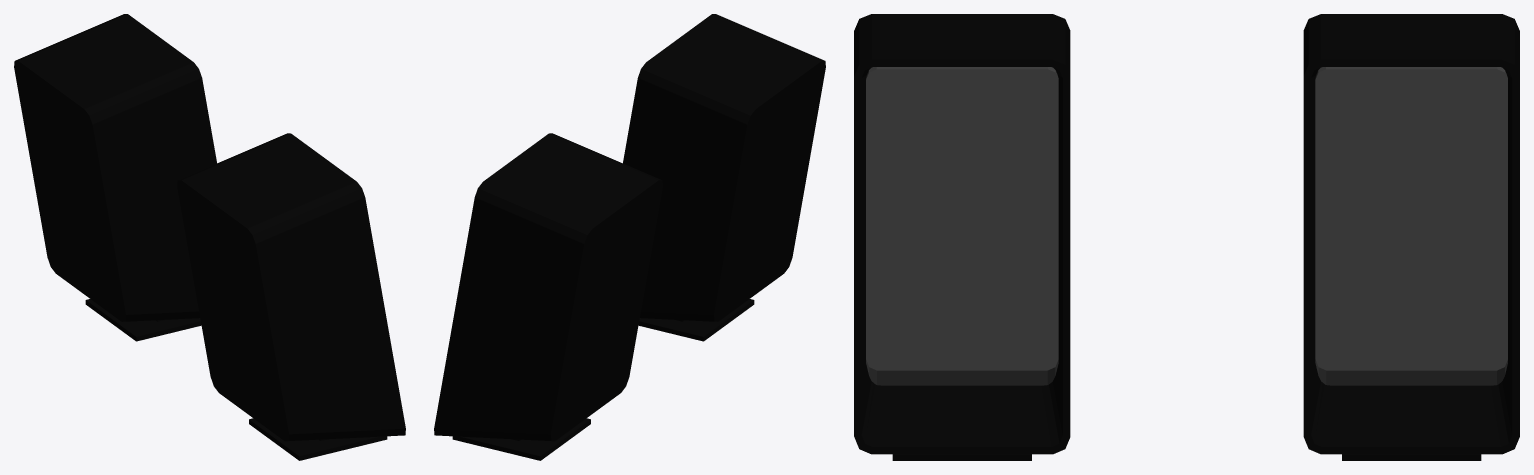
The model's file is Wall speakers.glb.
3 renders of one model, left to right at view 1: azimuth 30°, elevation 25°; view 2: azimuth 150°, elevation 25°; view 3: azimuth 270°, elevation 25°, orthographic. The views are drawn at different scales.
Parts seen in each view (by area): view 1: Wall___Desk_Speaker; view 2: Wall___Desk_Speaker; view 3: Wall___Desk_Speaker.
Part boxes in pixels (left/top/right/bottom): Wall___Desk_Speaker: left=14, top=14, right=405, bottom=460; Wall___Desk_Speaker: left=434, top=14, right=825, bottom=460; Wall___Desk_Speaker: left=854, top=14, right=1519, bottom=460.
Bounding box in the file's own units: 22.46 × 37.96 × 60.98.
Materials: 1 (1 with a texture image).
